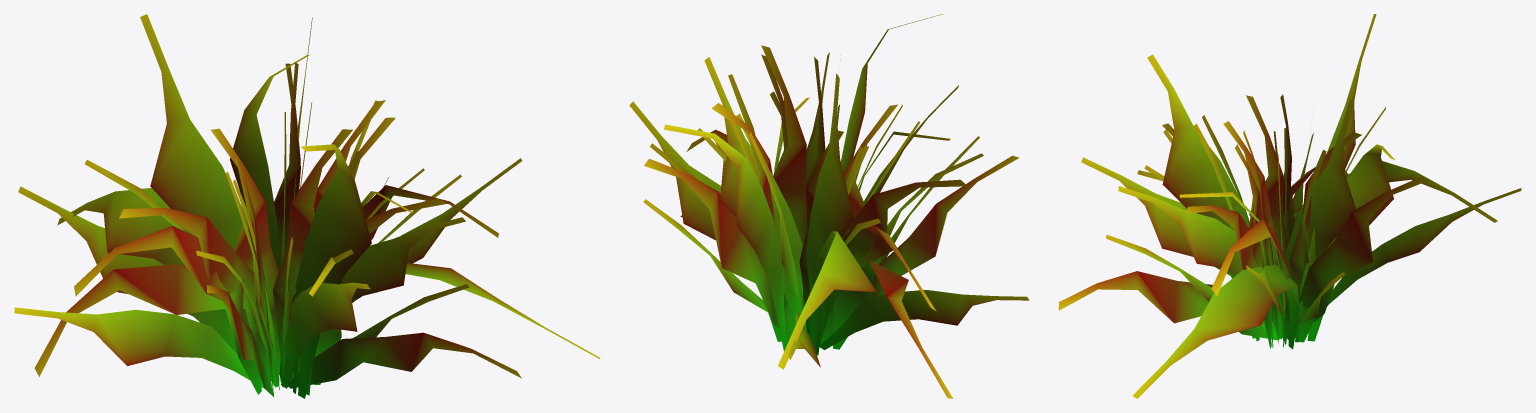
The model's file is tmjhcayia_Var5_LOD0.fbx.
3 views of the same model, side by side, from view 1: azimuth 30°, elevation 25°; view 2: azimuth 150°, elevation 25°; view 3: azimuth 270°, elevation 25° (orthographic). The views are drawn at different scales.
Parts seen in each view (by area): view 1: Var5_LOD0; view 2: Var5_LOD0; view 3: Var5_LOD0.
Part boxes in pixels (box(x1,y1,x2,y2)): Var5_LOD0: box(14, 14, 600, 398); Var5_LOD0: box(629, 14, 1029, 398); Var5_LOD0: box(1058, 14, 1521, 398).
Bounding box in the file's own units: 13.57 × 9.54 × 13.71.
